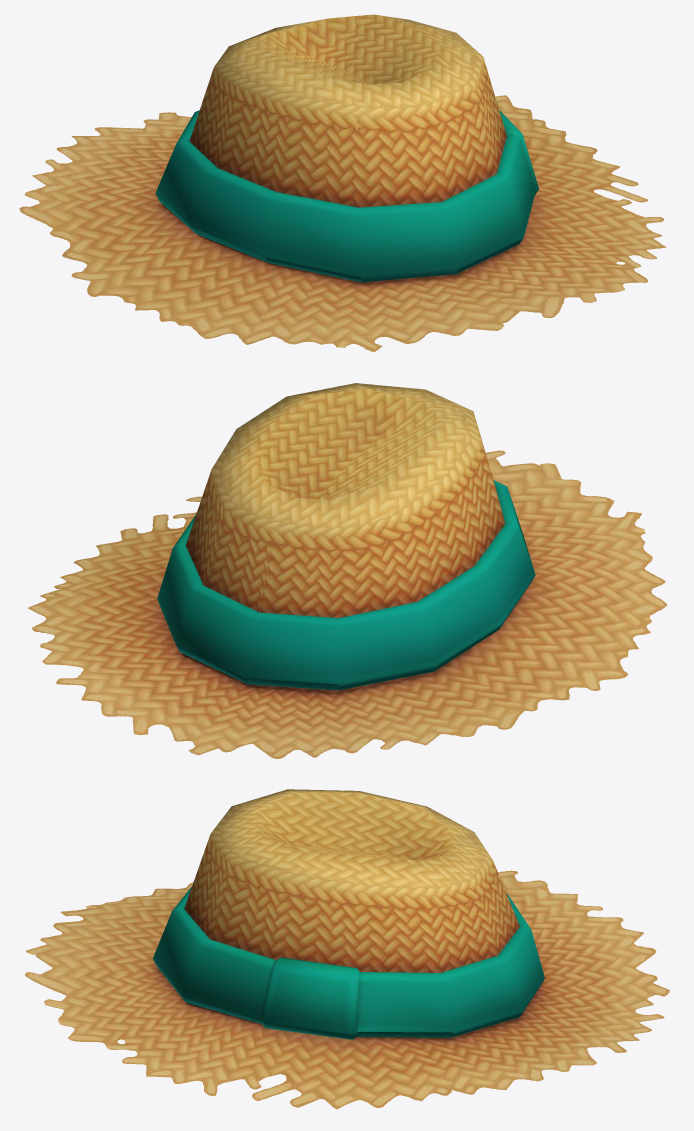
Rendered from SE_Hat_01.fbx.
3 views of the same model, one above another, from view 1: azimuth 30°, elevation 25°; view 2: azimuth 150°, elevation 25°; view 3: azimuth 270°, elevation 25° (orthographic). The views are drawn at different scales.
Parts seen in each view (by area): view 1: SE_Hat_01; view 2: SE_Hat_01; view 3: SE_Hat_01.
Boxes of the visible parts, x1,y1,x2,y2 form: SE_Hat_01: [19, 14, 666, 352]; SE_Hat_01: [28, 383, 667, 758]; SE_Hat_01: [25, 789, 669, 1109].
Size of the model in its own units: 3.06 by 1.05 by 3.47.
